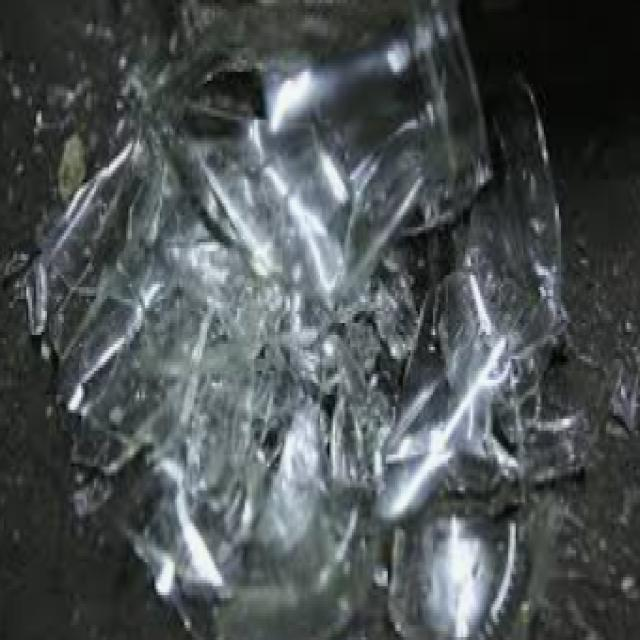PecahanKaca: (9, 0, 580, 637)
